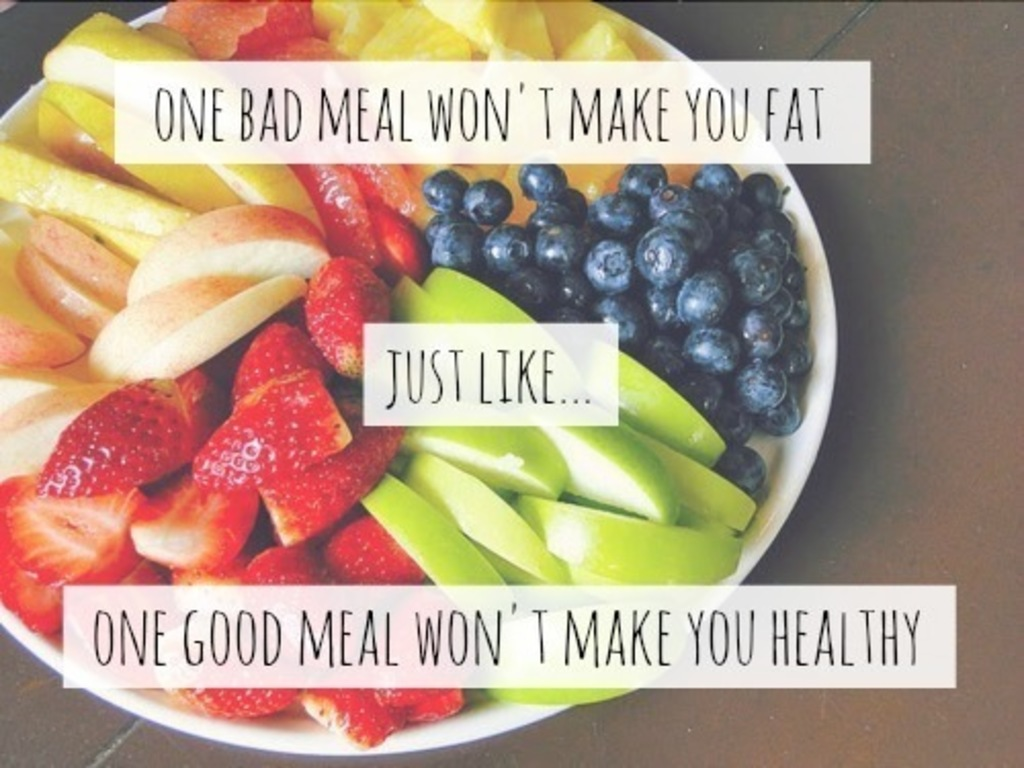Apple: (362, 262, 757, 708), (0, 208, 303, 481), (126, 196, 331, 292)
